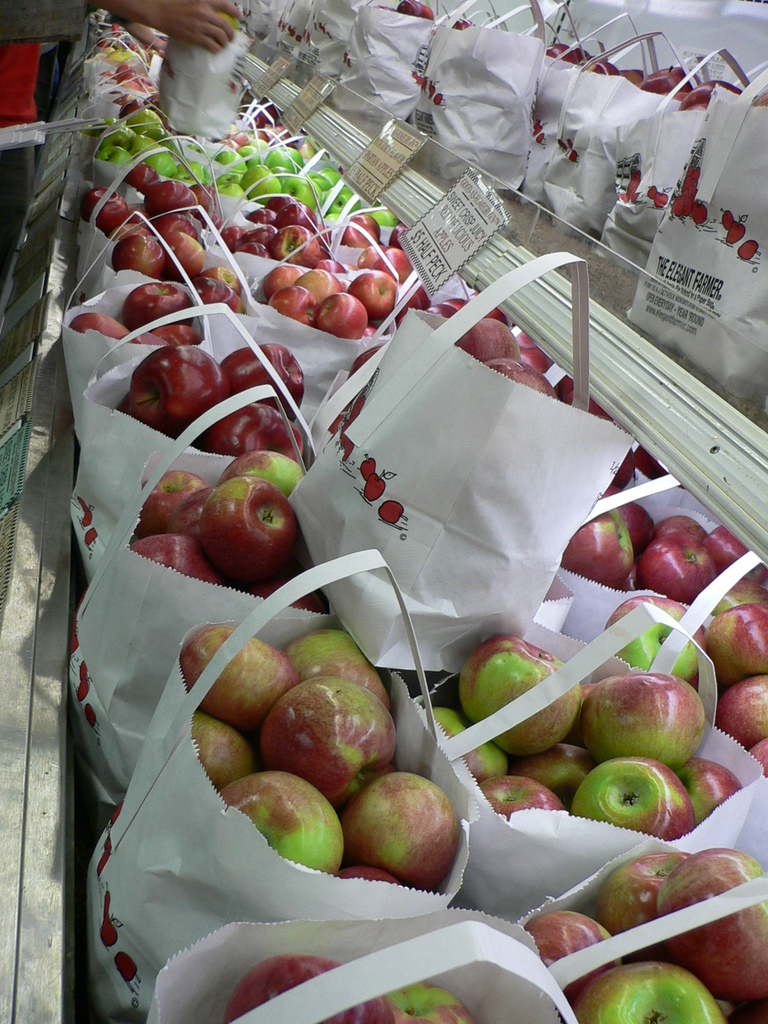Apple: (424, 291, 767, 604), (426, 578, 767, 840), (177, 624, 426, 888), (112, 342, 334, 609), (67, 202, 431, 344), (83, 90, 394, 211), (656, 848, 767, 1001), (546, 44, 742, 112), (343, 778, 464, 887), (595, 853, 698, 963), (326, 391, 408, 528), (217, 961, 394, 1023), (576, 956, 730, 1023), (669, 165, 760, 258), (522, 910, 625, 974), (380, 977, 476, 1023), (95, 25, 158, 94), (275, 10, 324, 42), (97, 896, 124, 949), (114, 952, 144, 984), (97, 833, 114, 876), (618, 169, 640, 200), (78, 662, 93, 702), (79, 497, 95, 529), (397, 0, 425, 16), (651, 190, 668, 209), (83, 529, 97, 547), (418, 3, 436, 17), (86, 707, 95, 732), (534, 119, 546, 133), (556, 135, 568, 149), (432, 92, 446, 103), (647, 185, 658, 199), (534, 131, 546, 142), (427, 80, 434, 97), (343, 48, 350, 62), (416, 71, 423, 82), (411, 69, 416, 76)
